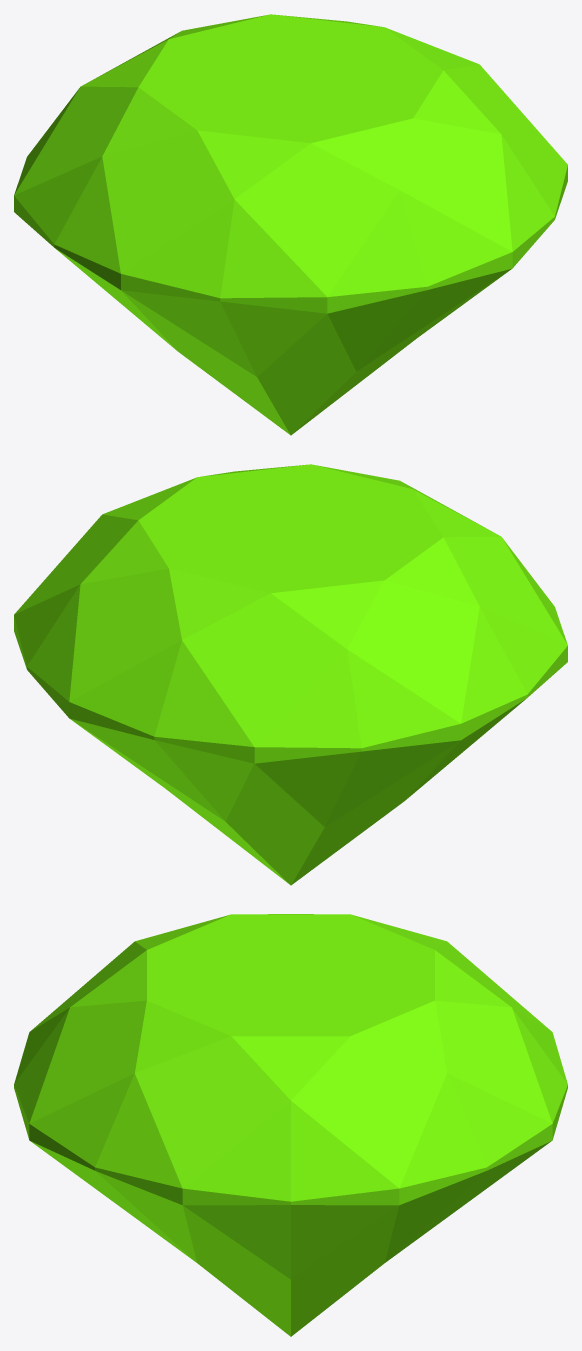
Rendered from greenGem.fbx.
3 views of the same model, one above another, from view 1: azimuth 30°, elevation 25°; view 2: azimuth 150°, elevation 25°; view 3: azimuth 270°, elevation 25° (orthographic).
Parts seen in each view (by area): view 1: Cylinder001; view 2: Cylinder001; view 3: Cylinder001.
Boxes of the visible parts, x1,y1,x2,y2 form: Cylinder001: (14, 14, 567, 435); Cylinder001: (14, 464, 567, 885); Cylinder001: (14, 914, 567, 1336).
Bounding box in the file's own units: 78.74 × 56.72 × 78.74.
